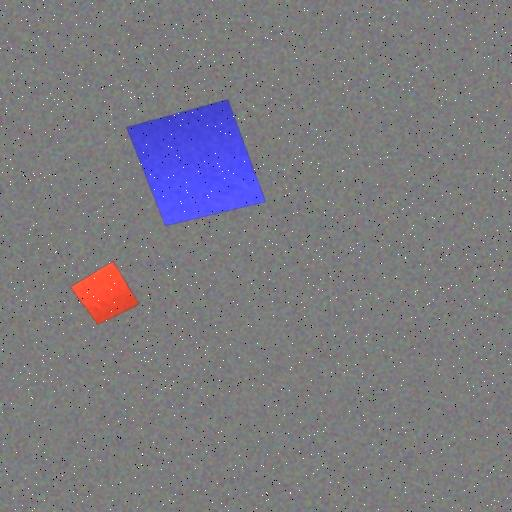BLUE_SQUARE: (126, 98, 266, 228)
RED_SQUARE: (70, 260, 140, 326)
